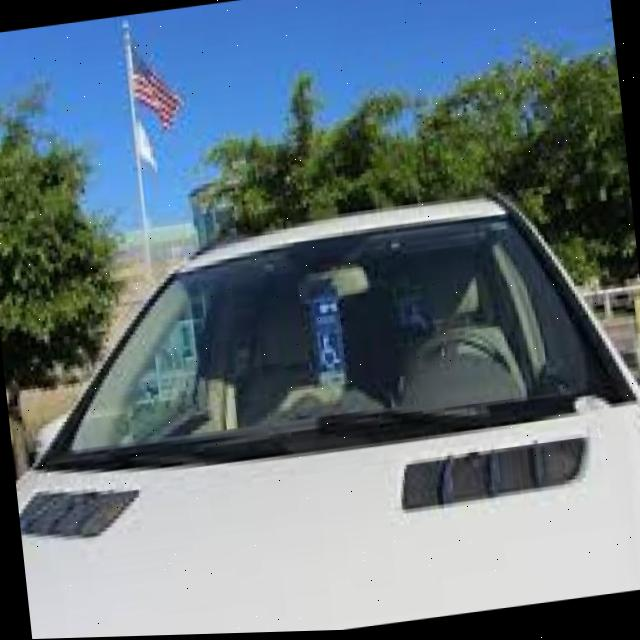symbol_of_access: (318, 330, 341, 370)
